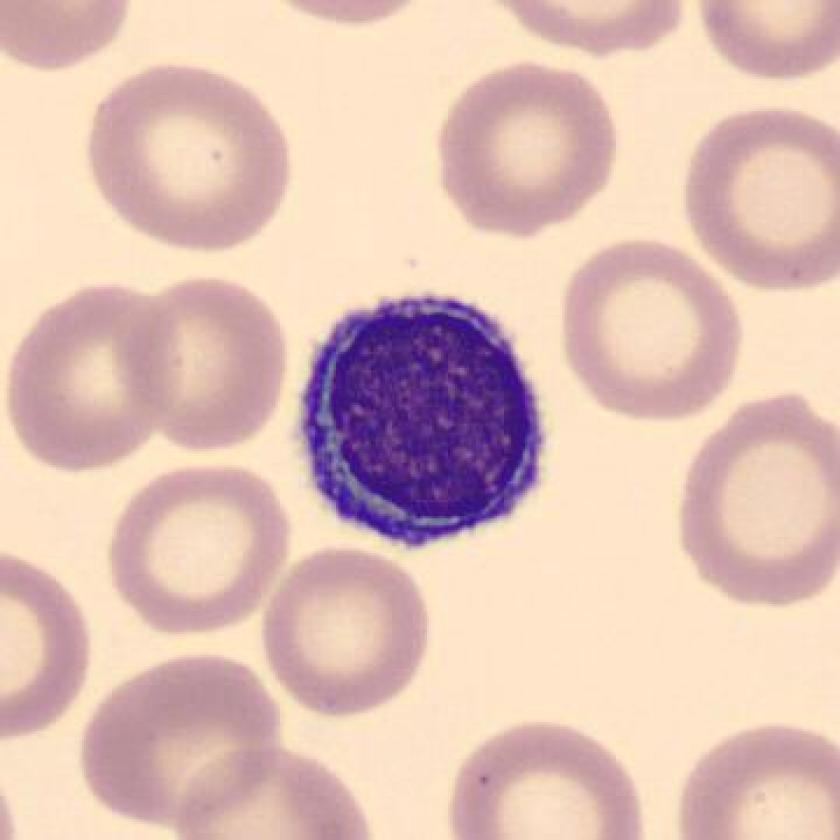lymphocyte: (288, 283, 561, 554)
